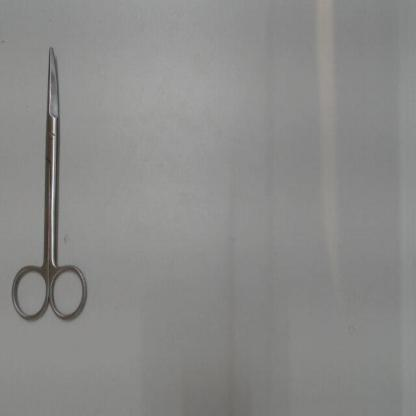Curved Mayo Scissors: (6, 32, 91, 326)
